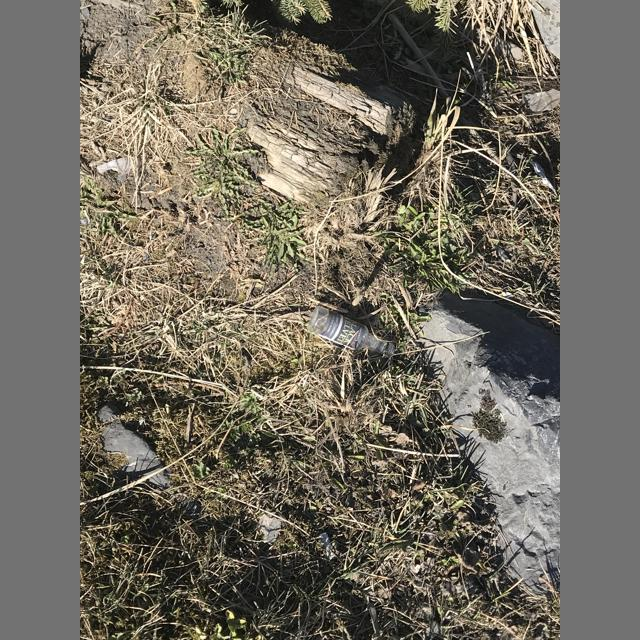litter: (308, 305, 395, 357), (96, 157, 131, 174)
